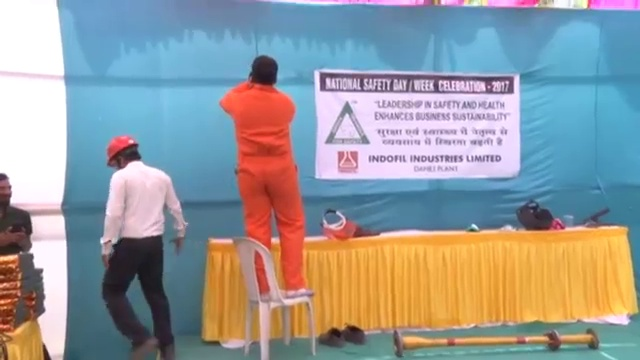helmet: (104, 134, 138, 167)
helmet_off: (247, 52, 279, 88)
helmet_on: (103, 133, 141, 170)
person: (214, 53, 326, 302), (101, 132, 187, 360), (1, 171, 39, 255)
